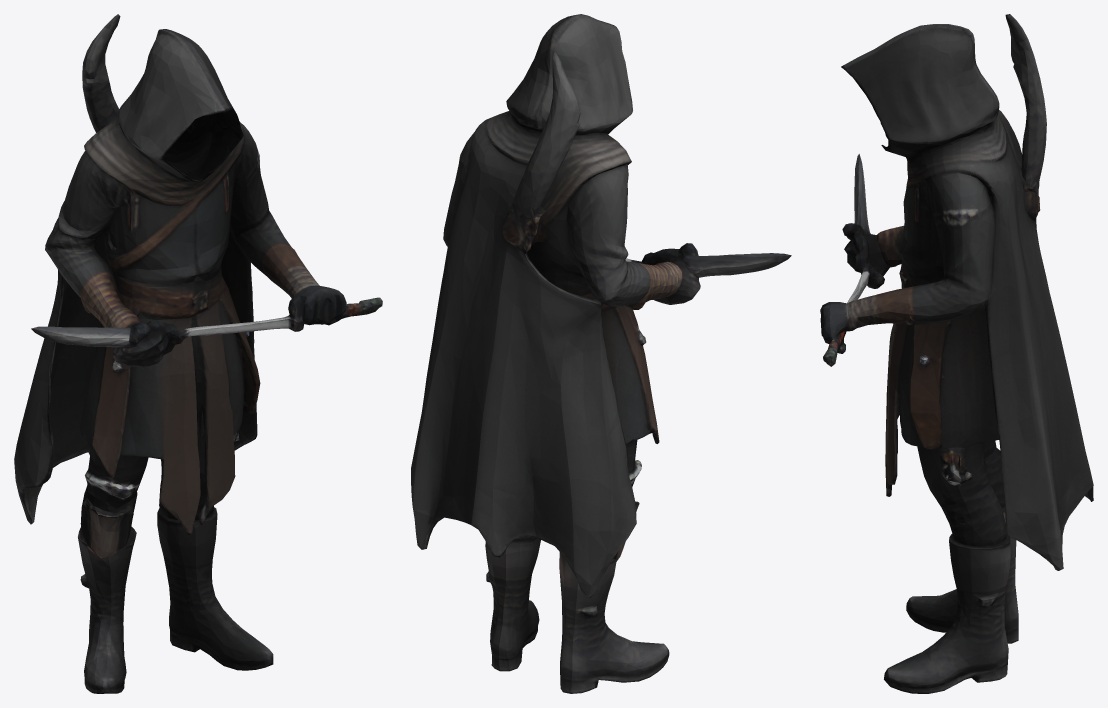
The model's file is ThiefEnemy.glb.
3 renders of one model, left to right at view 1: azimuth 30°, elevation 25°; view 2: azimuth 150°, elevation 25°; view 3: azimuth 270°, elevation 25°, orthographic.
Bounding box in the file's own units: 55.2 × 100 × 39.19.
Materials: 1 (1 with a texture image).
